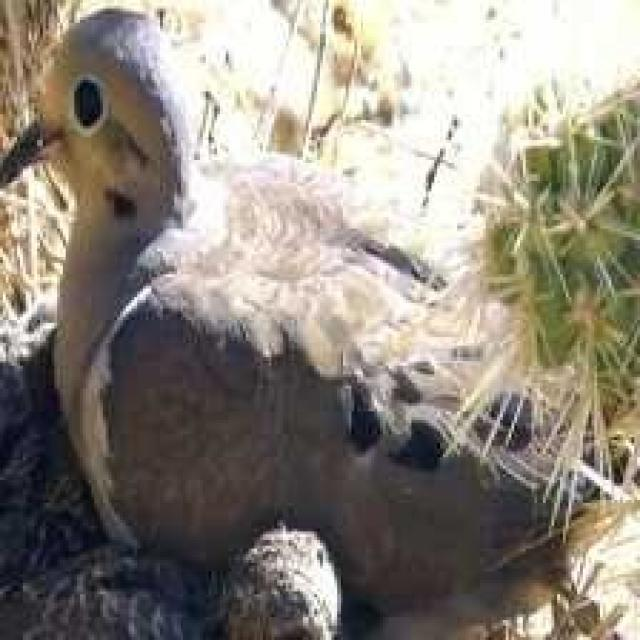bird: (5, 5, 636, 638)
